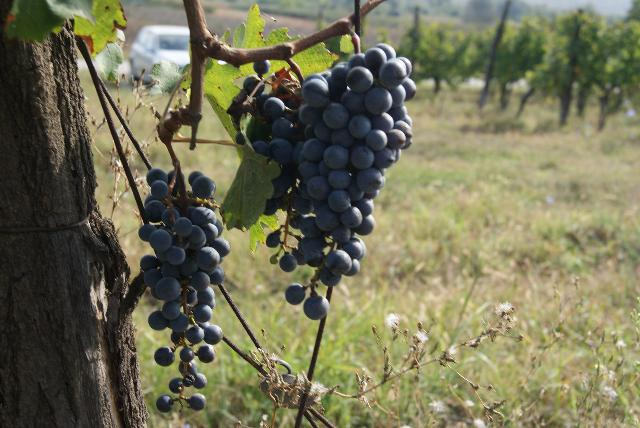grapes: (299, 44, 416, 288), (139, 169, 231, 412), (228, 61, 325, 272), (305, 291, 329, 311)
